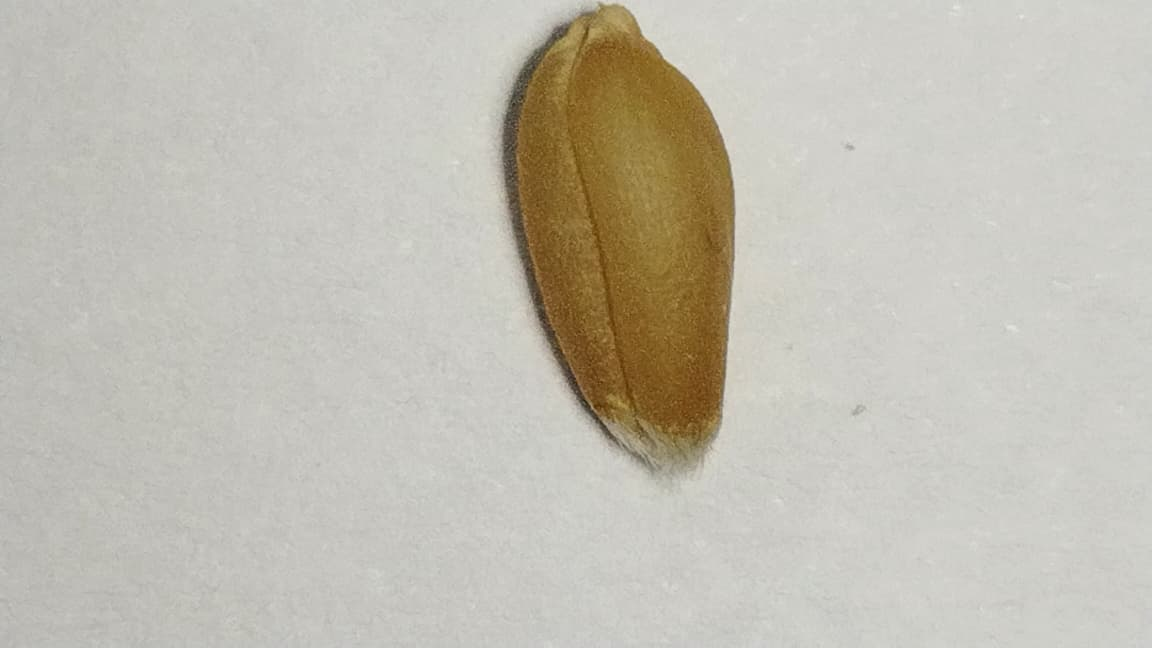healthy: (516, 5, 734, 473)
